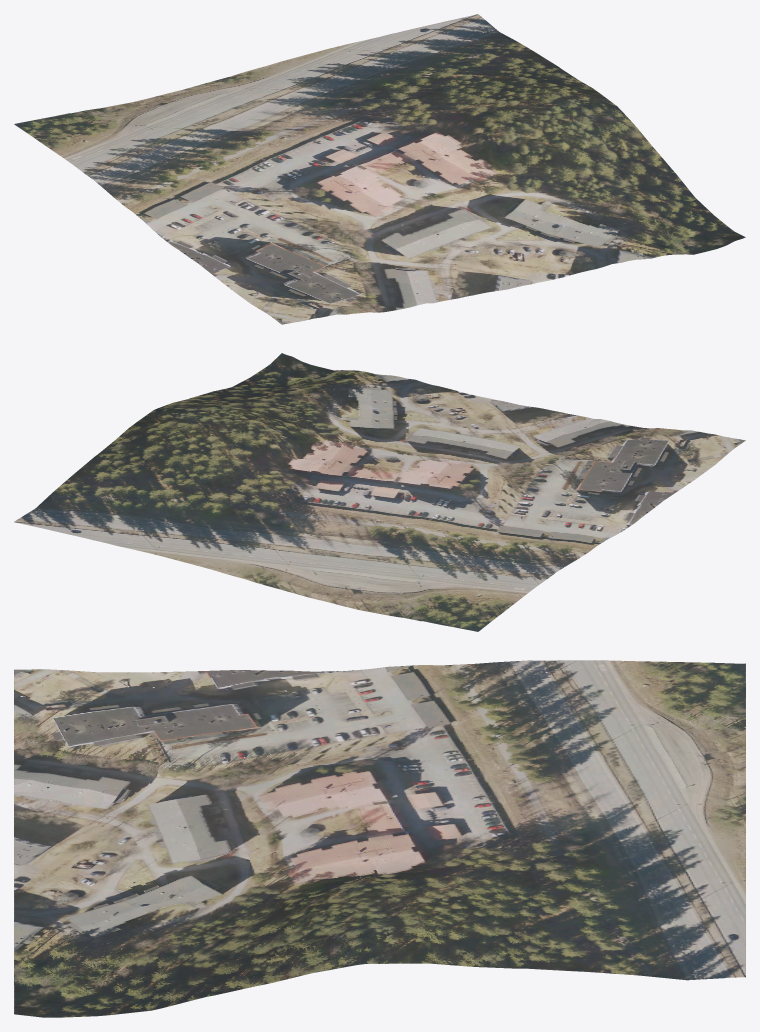
File: CM_Terrain_24490868_6821636.fbx
The picture shows the model from 3 angles, top to bottom: view 1: azimuth 30°, elevation 25°; view 2: azimuth 150°, elevation 25°; view 3: azimuth 270°, elevation 25°; orthographic projection. The views are drawn at different scales.
Visible parts, largest first — view 1: CM_Terrain_24490868_6821636_LOD0; view 2: CM_Terrain_24490868_6821636_LOD0; view 3: CM_Terrain_24490868_6821636_LOD0.
Part boxes in pixels (x1,y1,x2,y2): CM_Terrain_24490868_6821636_LOD0: [14, 14, 745, 324]; CM_Terrain_24490868_6821636_LOD0: [14, 353, 745, 631]; CM_Terrain_24490868_6821636_LOD0: [14, 660, 745, 1017].
Size of what is drawn, in the model's own units: 205 by 21.34 by 205.
